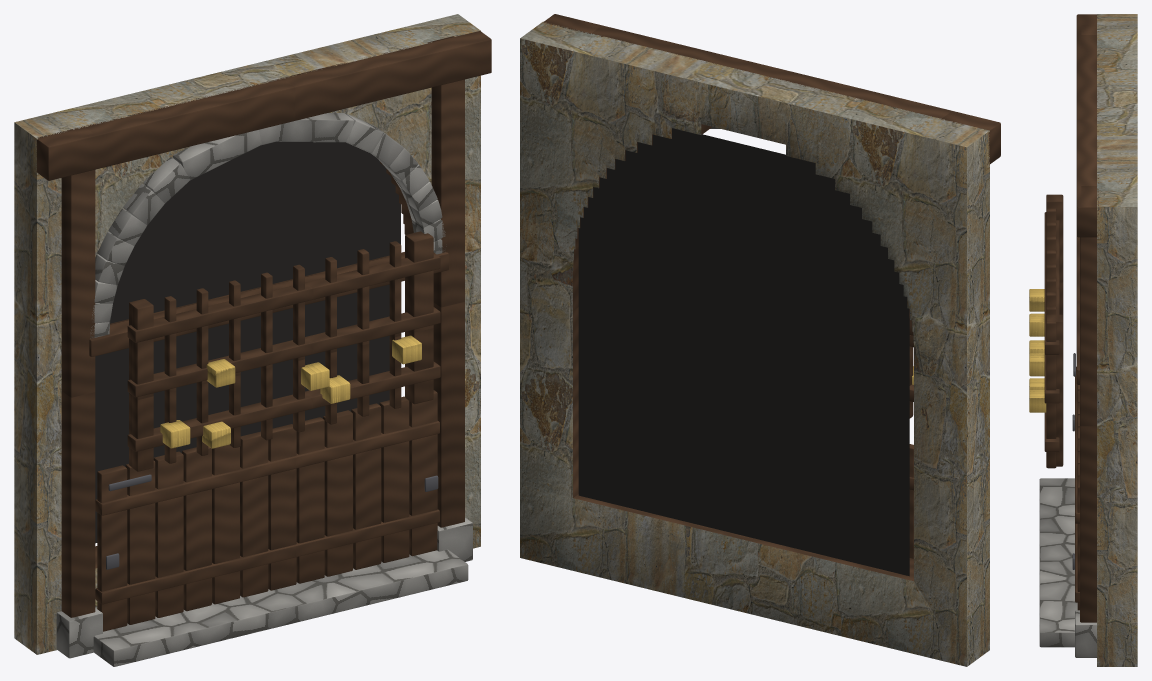
The model's file is wall_stable_bay.glb.
3 renders of one model, left to right at view 1: azimuth 30°, elevation 25°; view 2: azimuth 150°, elevation 25°; view 3: azimuth 270°, elevation 25°, orthographic. The views are drawn at different scales.
Parts seen in each view (by area): view 1: wall_stable_bay_1, wall_stable_bay_0; view 2: wall_stable_bay_0, wall_stable_bay_1; view 3: wall_stable_bay_1, wall_stable_bay_0.
Boxes of the visible parts, box(x1,y1,x2,y2) form: wall_stable_bay_1: box(36, 31, 491, 666); wall_stable_bay_0: box(14, 14, 480, 654); wall_stable_bay_0: box(520, 21, 989, 666); wall_stable_bay_1: box(543, 14, 1000, 576); wall_stable_bay_1: box(1029, 14, 1098, 657); wall_stable_bay_0: box(1097, 14, 1137, 666).
Bounding box in the file's own units: 2.7 × 3 × 0.64.
Materials: 6 (4 with a texture image).
